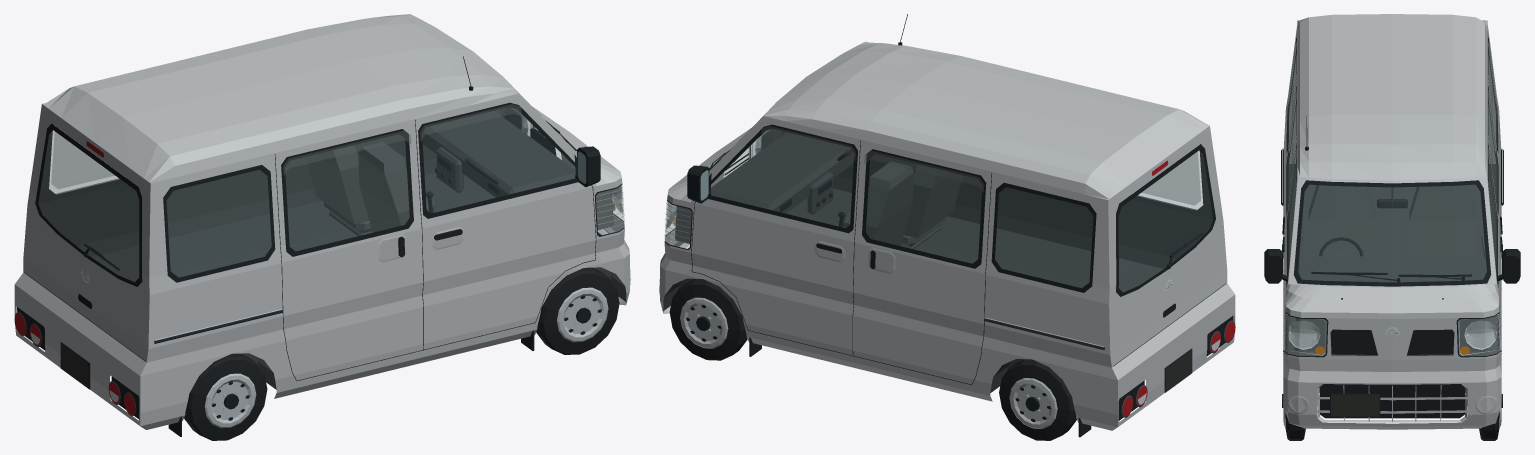
The model's file is kei-clipper-u7-6a061c3a.glb.
3 views of the same model, side by side, from view 1: azimuth 30°, elevation 25°; view 2: azimuth 150°, elevation 25°; view 3: azimuth 270°, elevation 25° (orthographic). The views are drawn at different scales.
Visible parts, largest first — view 1: Right_Side_Skin, Roof_Shell, Left_Side_Inner, Right_Sliding_Window, Right_Front_Window, Rear_Window, Right_Quarter_Window, Dashboard, Cargo_Floor, Rear_Skin_5, Driver_Seat_Back, Rear_Skin_2 (+24 smaller); view 2: Left_Side_Skin, Roof_Shell, Right_Side_Inner, Left_Sliding_Window, Left_Front_Window, Rear_Window, Left_Quarter_Window, Dashboard, Cargo_Floor, Rear_Skin_5, Passenger_Seat_Back, Rear_Skin_2 (+24 smaller); view 3: Roof_Shell, Front_Windshield, Bonnet_Cowl, Passenger_Seat_Back, Cargo_Floor, Dashboard, Driver_Seat_Back, Lower_Inlet_Radiator, Front_Skin_5, Front_Skin_4, Front_Skin_3, Front_Windshield_Rubber (+35 smaller).
Part boxes in pixels (x1=…): Right_Side_Skin: x1=140, y1=93, x2=602, y2=429; Roof_Shell: x1=42, y1=14, x2=518, y2=183; Left_Side_Inner: x1=38, y1=131, x2=436, y2=256; Right_Sliding_Window: x1=285, y1=135, x2=409, y2=250; Right_Front_Window: x1=422, y1=108, x2=575, y2=213; Rear_Window: x1=38, y1=130, x2=138, y2=281; Right_Quarter_Window: x1=167, y1=170, x2=271, y2=277; Dashboard: x1=422, y1=111, x2=575, y2=197; Cargo_Floor: x1=91, y1=206, x2=345, y2=284; Rear_Skin_5: x1=23, y1=212, x2=149, y2=348; Driver_Seat_Back: x1=358, y1=142, x2=409, y2=232; Rear_Skin_2: x1=14, y1=284, x2=140, y2=412; Left_Side_Skin: x1=686, y1=116, x2=1117, y2=430; Roof_Shell: x1=764, y1=41, x2=1209, y2=199; Right_Side_Inner: x1=833, y1=151, x2=1213, y2=268; Left_Sliding_Window: x1=866, y1=154, x2=981, y2=263; Left_Front_Window: x1=711, y1=129, x2=853, y2=227; Rear_Window: x1=1119, y1=151, x2=1212, y2=291; Left_Quarter_Window: x1=995, y1=187, x2=1092, y2=287; Dashboard: x1=710, y1=132, x2=853, y2=213; Cargo_Floor: x1=925, y1=221, x2=1163, y2=294; Rear_Skin_5: x1=1109, y1=227, x2=1227, y2=354; Passenger_Seat_Back: x1=866, y1=161, x2=913, y2=245; Rear_Skin_2: x1=1118, y1=295, x2=1235, y2=414; Roof_Shell: x1=1297, y1=14, x2=1487, y2=180; Front_Windshield: x1=1298, y1=185, x2=1486, y2=282; Bonnet_Cowl: x1=1286, y1=284, x2=1498, y2=313; Passenger_Seat_Back: x1=1409, y1=185, x2=1476, y2=256; Cargo_Floor: x1=1288, y1=164, x2=1496, y2=264; Dashboard: x1=1298, y1=256, x2=1486, y2=286; Driver_Seat_Back: x1=1308, y1=185, x2=1375, y2=256; Lower_Inlet_Radiator: x1=1319, y1=384, x2=1465, y2=418; Front_Skin_5: x1=1283, y1=318, x2=1501, y2=359; Front_Skin_4: x1=1283, y1=346, x2=1501, y2=371; Front_Skin_3: x1=1283, y1=361, x2=1501, y2=383; Front_Windshield_Rubber: x1=1293, y1=180, x2=1491, y2=286.
Bounding box in the file's own units: 3.43 × 2.06 × 1.73.
